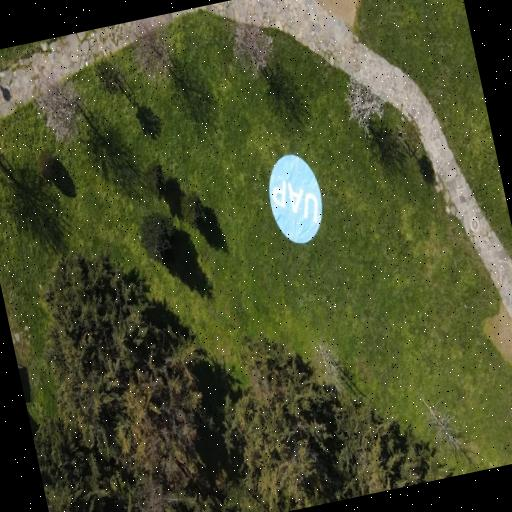UAP: (270, 154, 321, 243)
